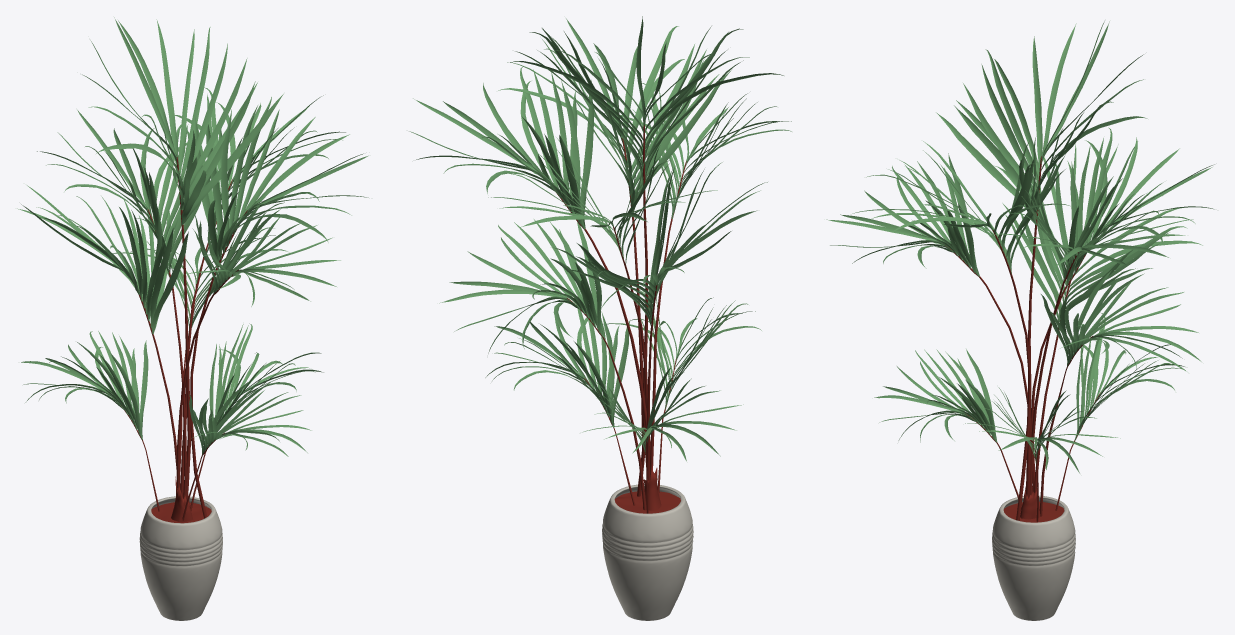
3 views of the same model, side by side, from view 1: azimuth 30°, elevation 25°; view 2: azimuth 150°, elevation 25°; view 3: azimuth 270°, elevation 25° (orthographic). The views are drawn at different scales.
Parts seen in each view (by area): view 1: Leaves, Pot, Stems; view 2: Leaves, Pot, Stems; view 3: Leaves, Pot, Stems.
Boxes of the visible parts, x1=… form: Leaves: x1=17, y1=17, x2=368, y2=620; Pot: x1=139, y1=496, x2=222, y2=620; Stems: x1=121, y1=157, x2=247, y2=523; Leaves: x1=409, y1=16, x2=791, y2=620; Pot: x1=602, y1=484, x2=693, y2=620; Stems: x1=556, y1=125, x2=686, y2=513; Leaves: x1=826, y1=21, x2=1214, y2=620; Pot: x1=992, y1=495, x2=1075, y2=620; Stems: x1=945, y1=156, x2=1100, y2=522.
Bounding box in the file's own units: 88.65 × 162 × 100.
